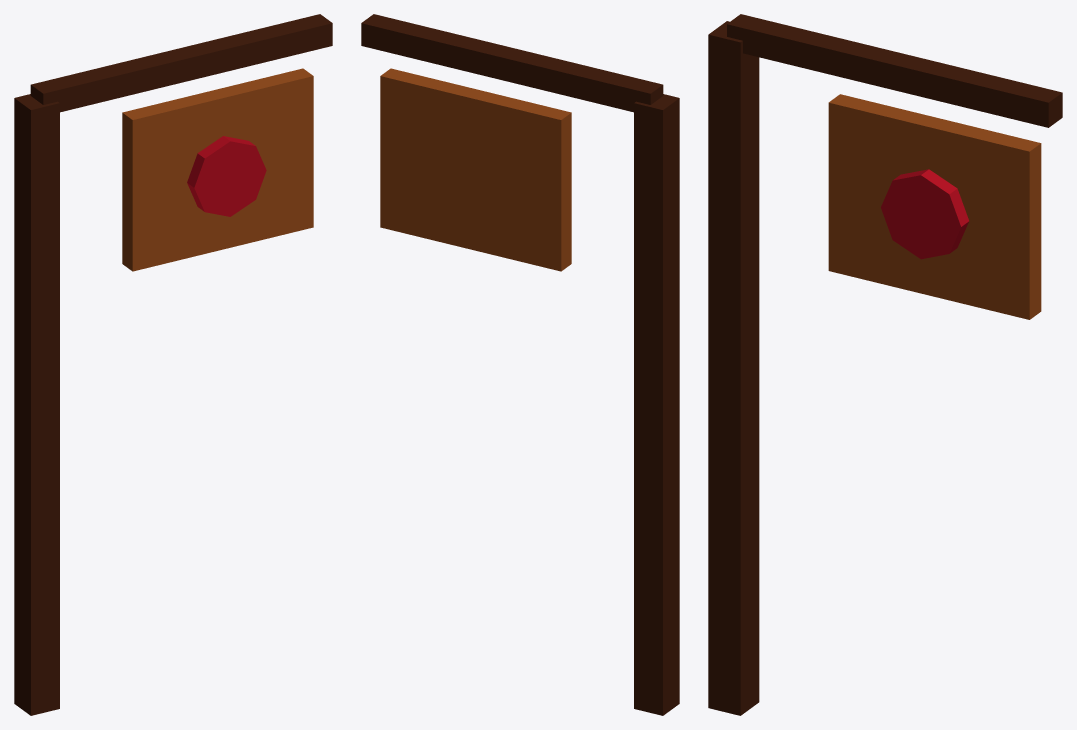
Rendered from hanging_sign.obj.
The picture shows the model from 3 angles, left to right: view 1: azimuth 30°, elevation 25°; view 2: azimuth 150°, elevation 25°; view 3: azimuth 330°, elevation 25°; orthographic projection. The views are drawn at different scales.
Visible parts, largest first — view 1: hanging_sign; view 2: hanging_sign; view 3: hanging_sign.
Boxes of the visible parts, x1,y1,x2,y2 form: hanging_sign: [14, 14, 332, 715]; hanging_sign: [361, 14, 679, 715]; hanging_sign: [708, 14, 1062, 715].
Bounding box in the file's own units: 0.84 × 1.63 × 0.1.
